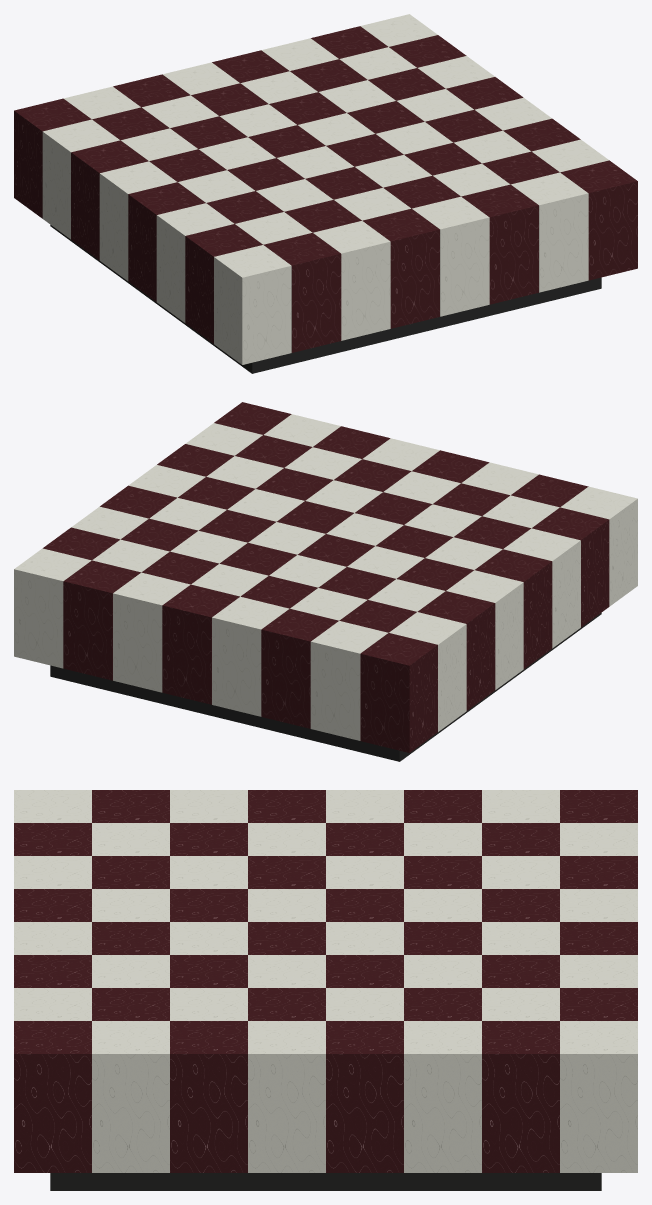
File: N36_coffee_reference.glb
The picture shows the model from 3 angles, top to bottom: view 1: azimuth 30°, elevation 25°; view 2: azimuth 150°, elevation 25°; view 3: azimuth 270°, elevation 25°; orthographic projection. The views are drawn at different scales.
Visible parts, largest first — view 1: Checker stone blocks 1, Checker stone blocks 0, Inset dark support; view 2: Checker stone blocks 0, Checker stone blocks 1, Inset dark support; view 3: Checker stone blocks 0, Checker stone blocks 1, Inset dark support.
Boxes of the visible parts, bbox=[...] form: Checker stone blocks 1: bbox=[42, 14, 608, 364]; Checker stone blocks 0: bbox=[14, 26, 637, 352]; Inset dark support: bbox=[50, 225, 601, 373]; Checker stone blocks 0: bbox=[43, 402, 609, 752]; Checker stone blocks 1: bbox=[14, 414, 637, 740]; Inset dark support: bbox=[50, 613, 601, 761]; Checker stone blocks 0: bbox=[14, 790, 637, 1172]; Checker stone blocks 1: bbox=[14, 790, 637, 1172]; Inset dark support: bbox=[50, 1173, 601, 1190].
Size of the model in its own units: 1.28 by 0.345 by 1.28.
Materials: 3 (2 with a texture image).
